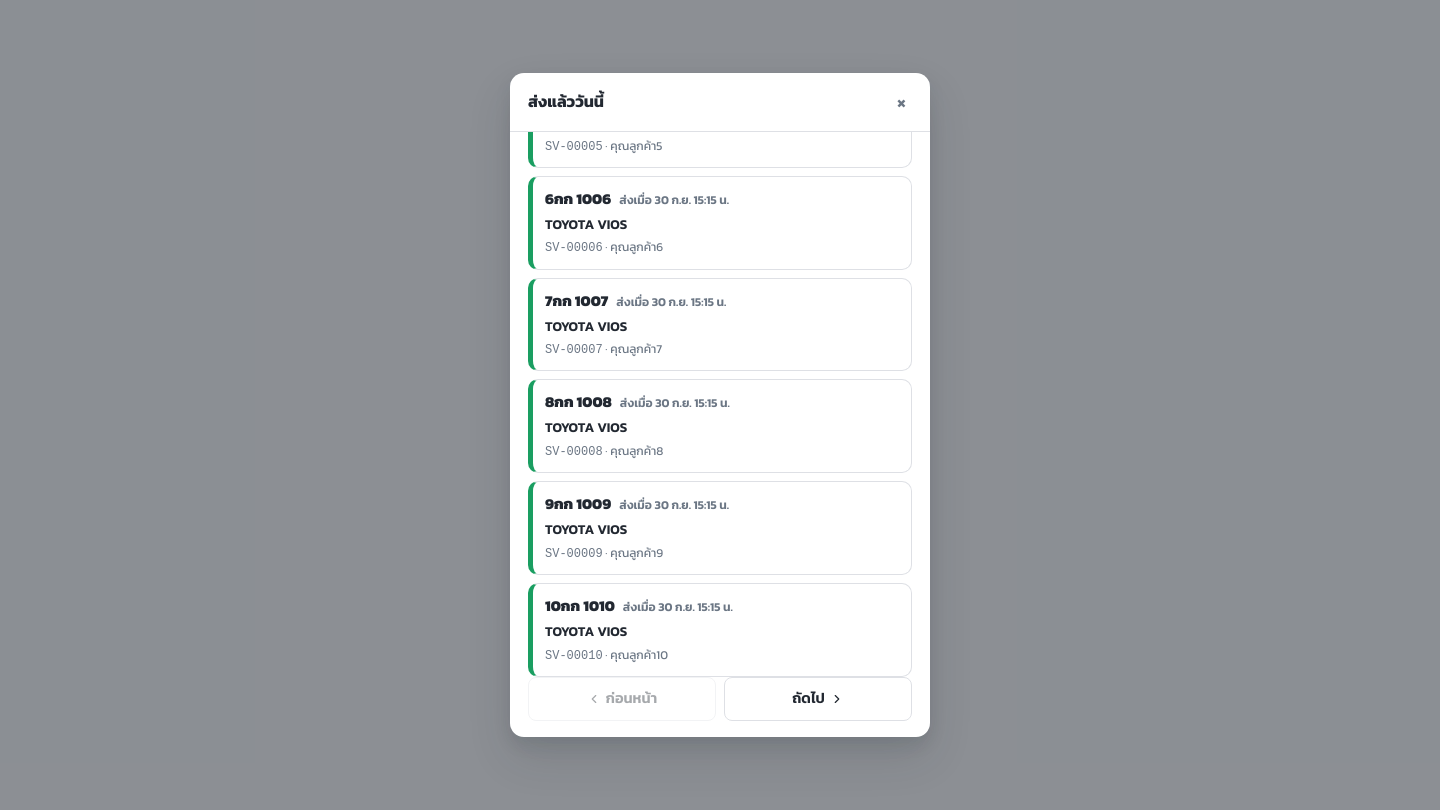
Scenario: the list › paginates: next fetches page 2, previous goes back, and the ends are disabled
(page scrolled)
Check: the button "ก่อนหน้า" is disabled, box [528,677,716,721]
Click the button "ถัดไป": (818, 699) [724,677,912,721]
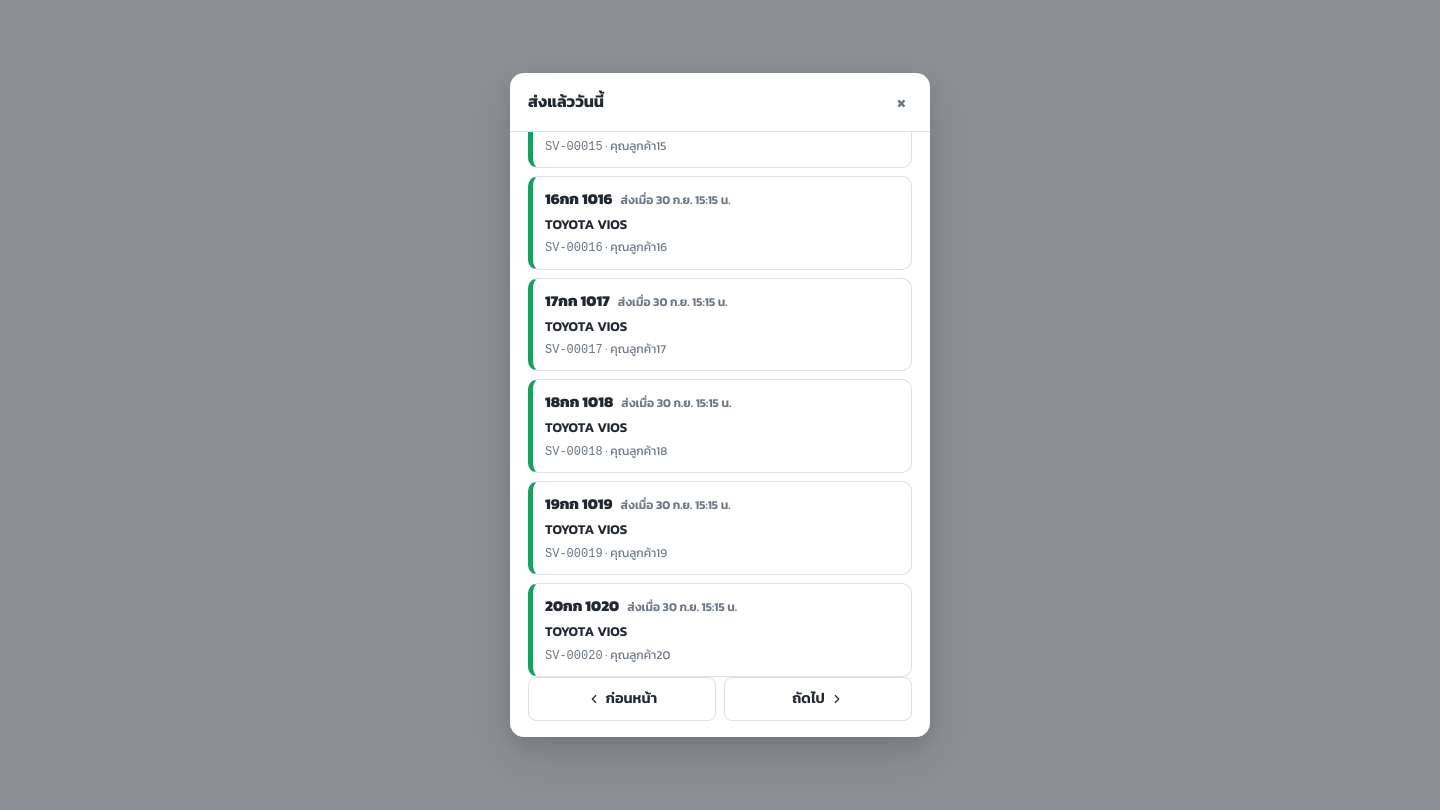
Click the button "ถัดไป": (818, 699) [724,677,912,721]
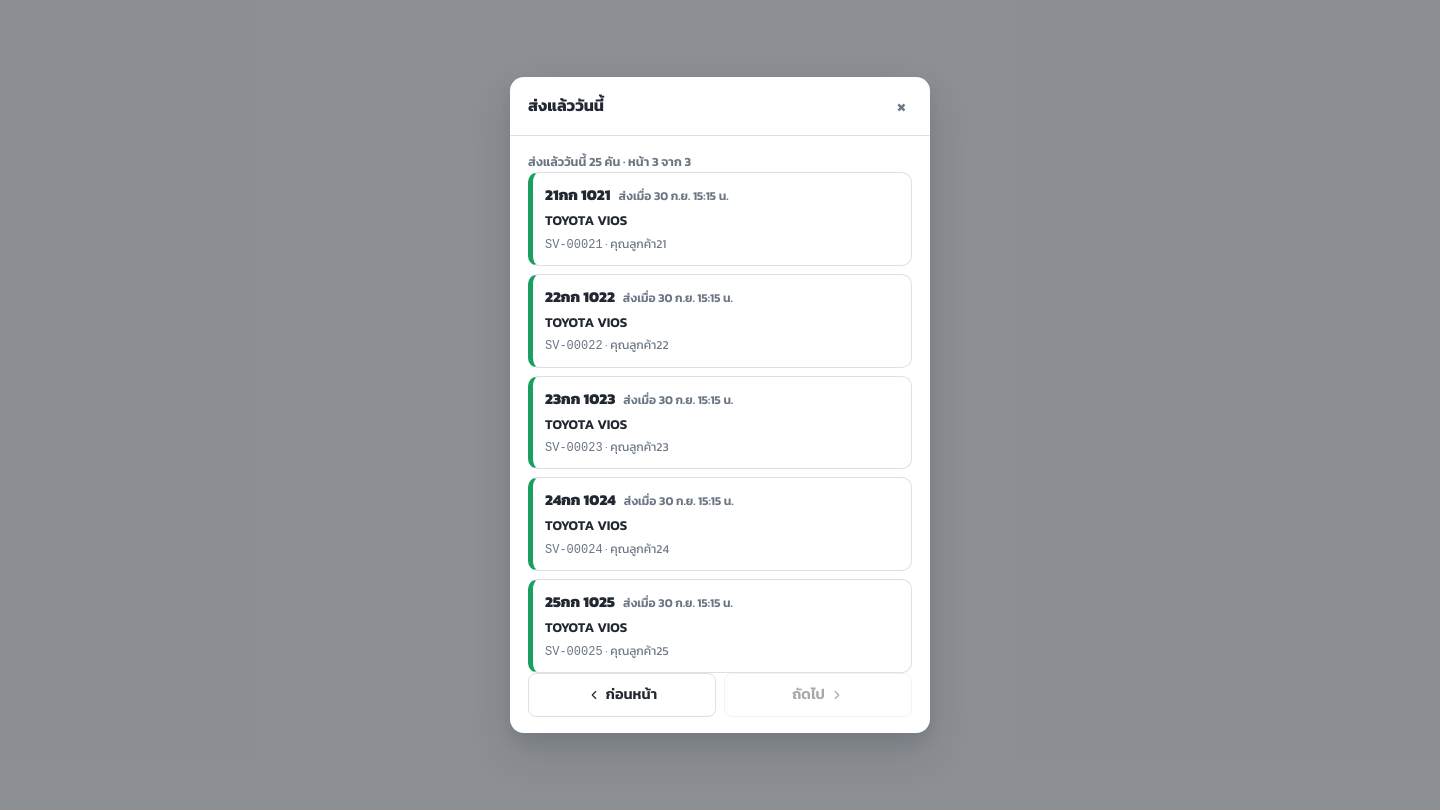
Check: the number of buttons with class "kb-dl-item" is 5, box [528,172,912,266]; [528,274,912,368]; [528,376,912,469]; [528,477,912,571]; [528,579,912,673]
Check: the button "ถัดไป" is disabled, box [724,673,912,717]
Click the button "ก่อนหน้า": (622, 695) [528,673,716,717]
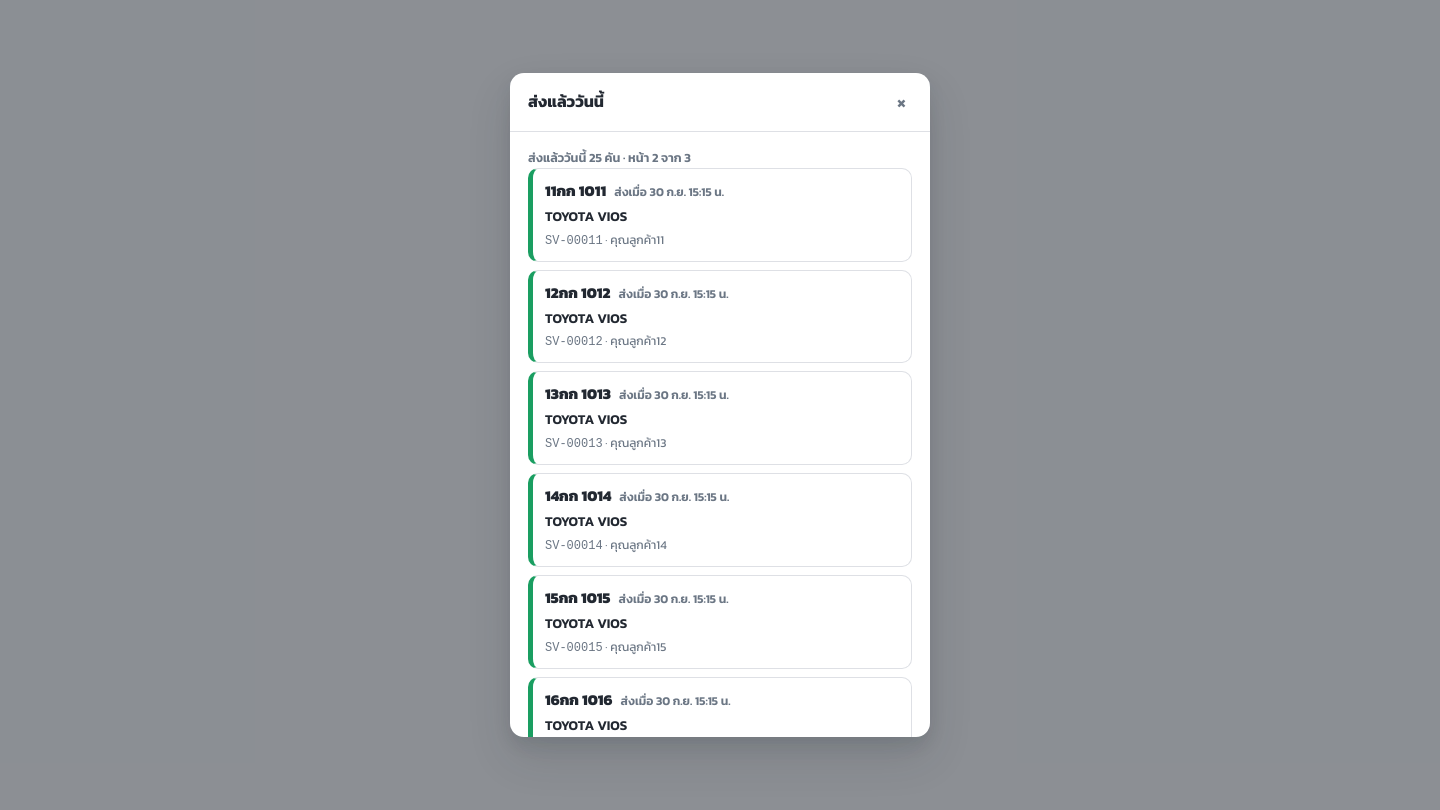
Check: the text "หน้า 2 จาก 3" is shown, box [528,148,691,167]
